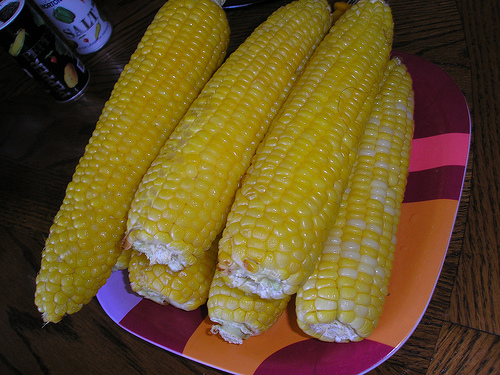corn: (35, 0, 229, 323), (116, 1, 338, 274), (218, 2, 390, 299), (124, 247, 212, 313)
